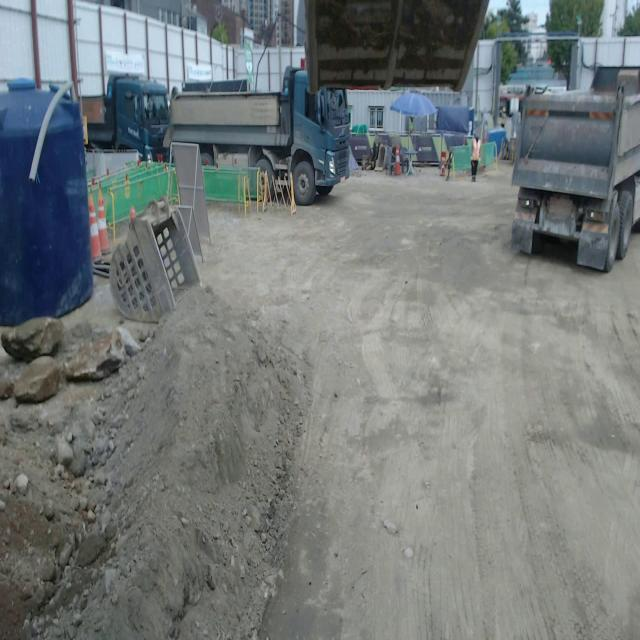rocks: (3, 399, 117, 521)
sand: (80, 169, 640, 639), (0, 501, 46, 549), (0, 580, 30, 639)
stone: (64, 327, 140, 380), (0, 317, 64, 361), (13, 356, 62, 403), (0, 376, 14, 399)
